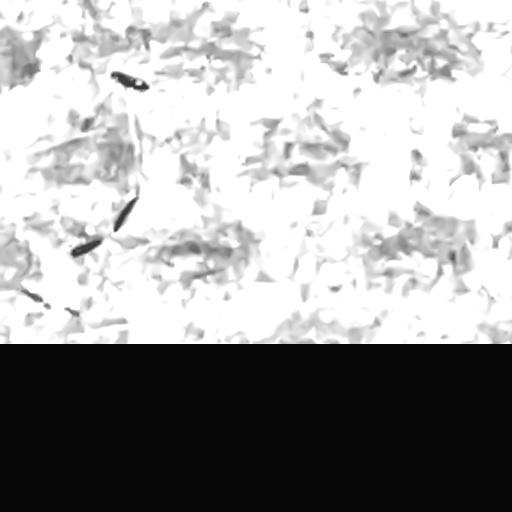egg: (113, 195, 138, 231), (110, 71, 149, 91), (71, 238, 102, 257), (22, 287, 43, 302)
